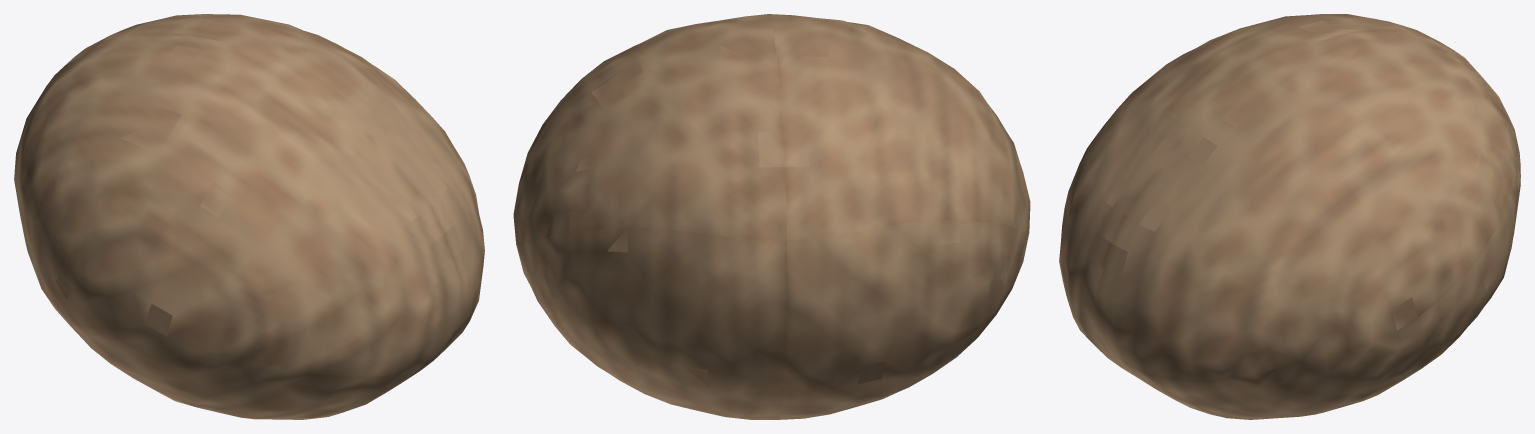
File: sculpture_05.glb
The picture shows the model from 3 angles, left to right: view 1: azimuth 30°, elevation 25°; view 2: azimuth 150°, elevation 25°; view 3: azimuth 270°, elevation 25°; orthographic projection. The views are drawn at different scales.
Parts seen in each view (by area): view 1: SCL_02_06; view 2: SCL_02_06; view 3: SCL_02_06.
Boxes of the visible parts, x1,y1,x2,y2 form: SCL_02_06: [14, 14, 484, 419]; SCL_02_06: [513, 14, 1030, 419]; SCL_02_06: [1059, 14, 1520, 419].
Size of the model in its own units: 0.1838 by 0.1506 by 0.1851.
1 material, 1 textured.
